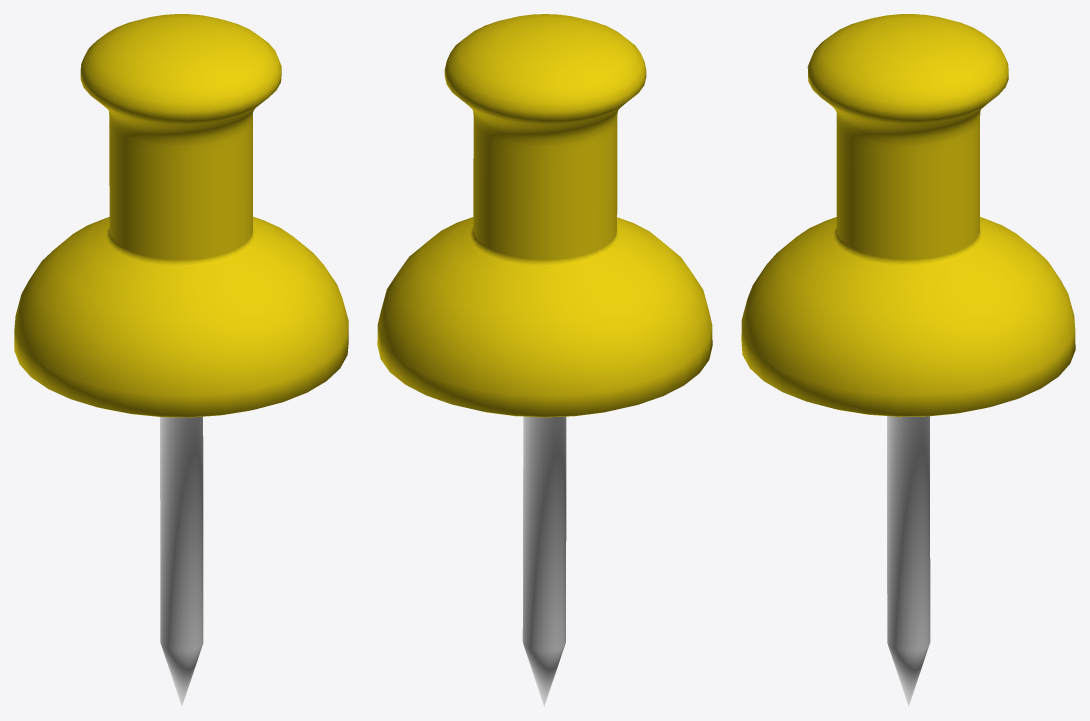
File: pin_yellow.gltf
The picture shows the model from 3 angles, left to right: view 1: azimuth 30°, elevation 25°; view 2: azimuth 150°, elevation 25°; view 3: azimuth 270°, elevation 25°; orthographic projection.
Parts seen in each view (by area): view 1: Circle.002_Circle.001; view 2: Circle.002_Circle.001; view 3: Circle.002_Circle.001.
Part boxes in pixels (left/top/right/bottom): Circle.002_Circle.001: left=14, top=14, right=348, bottom=706; Circle.002_Circle.001: left=377, top=14, right=712, bottom=706; Circle.002_Circle.001: left=741, top=14, right=1075, bottom=706.
Size of the model in its own units: 0.7826 by 1.74 by 0.7826.
